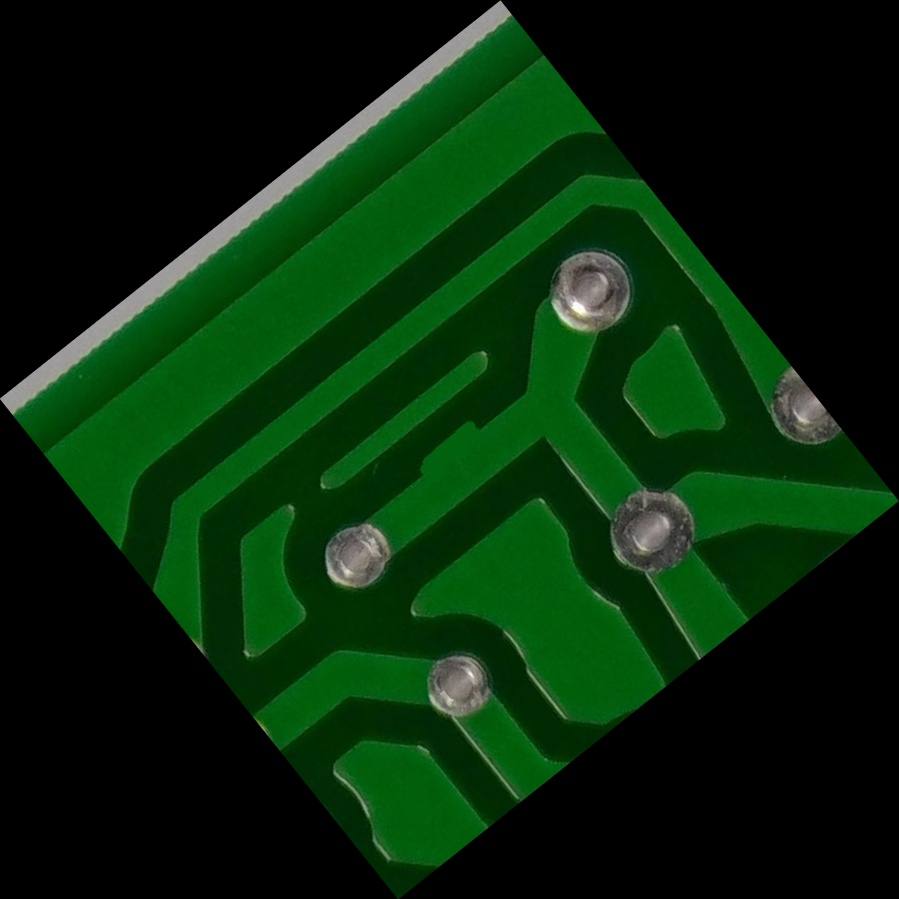spur: (390, 393, 509, 506)
